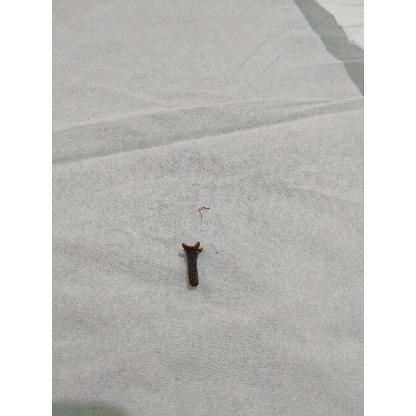buruk: (181, 241, 202, 290)
